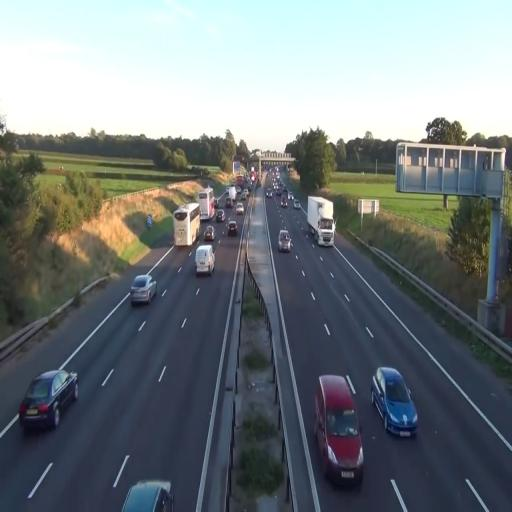vehicle: (314, 374, 364, 489), (314, 374, 364, 488), (19, 368, 78, 432), (371, 366, 418, 438), (122, 478, 174, 512), (306, 194, 334, 247), (307, 194, 335, 247), (173, 203, 201, 249), (130, 273, 156, 306), (195, 244, 215, 276), (278, 227, 292, 252), (227, 222, 238, 236)
